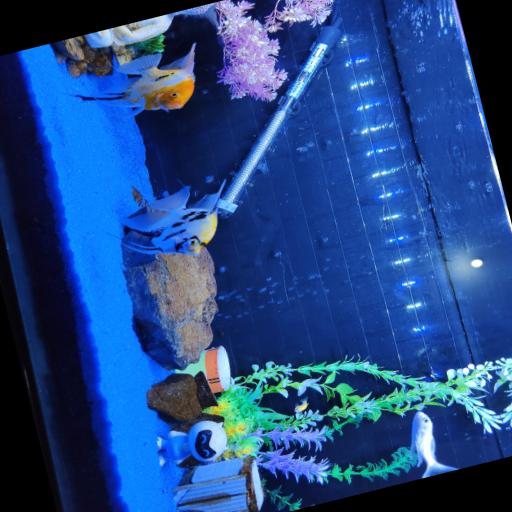Fish: (76, 43, 194, 115), (115, 181, 224, 255), (410, 411, 456, 477), (294, 396, 307, 412)
